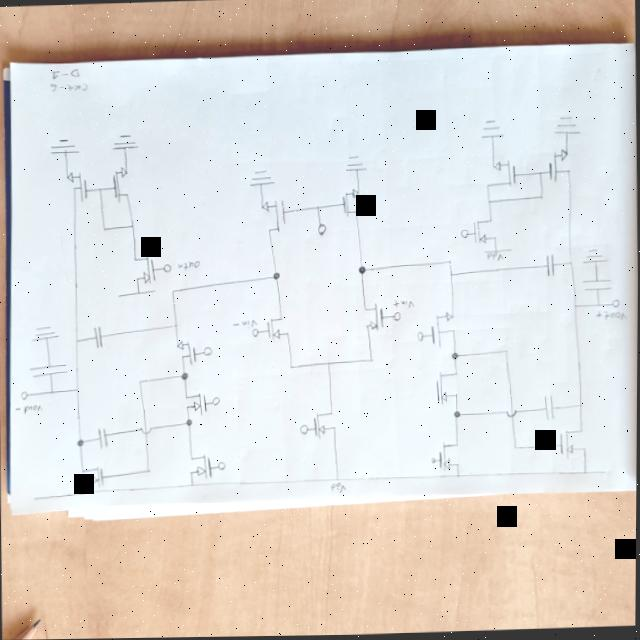capacitor: (28, 359, 69, 381), (580, 276, 613, 296), (542, 393, 557, 423), (96, 426, 109, 450), (543, 254, 555, 279), (92, 324, 104, 349)
crossover: (139, 424, 153, 437), (505, 408, 519, 421)
ground: (47, 136, 81, 156), (552, 115, 582, 137), (110, 131, 139, 152), (247, 167, 276, 188), (478, 119, 506, 140), (30, 324, 60, 341), (581, 248, 609, 266), (342, 155, 369, 173)
junction: (271, 271, 281, 281), (356, 265, 366, 275), (453, 410, 462, 420), (76, 437, 84, 448), (450, 352, 459, 361), (180, 372, 189, 381), (185, 418, 194, 427), (73, 336, 82, 344), (566, 260, 575, 268), (512, 444, 520, 452), (576, 402, 584, 410), (47, 387, 55, 395), (595, 300, 601, 310), (96, 184, 102, 193), (74, 386, 81, 393), (145, 467, 152, 474), (572, 304, 579, 311), (80, 489, 86, 496), (503, 349, 509, 356), (129, 222, 135, 229), (538, 194, 544, 201), (101, 226, 108, 232), (582, 471, 589, 477), (169, 288, 175, 295), (335, 476, 341, 483), (137, 378, 143, 384), (369, 357, 375, 363), (448, 273, 454, 279), (314, 205, 320, 211), (288, 364, 294, 370), (446, 259, 452, 265), (486, 199, 492, 205), (189, 482, 195, 488), (172, 322, 178, 328), (325, 361, 331, 367), (537, 172, 543, 178), (455, 474, 461, 480)
terminal: (118, 289, 156, 296), (480, 247, 513, 254), (211, 393, 220, 408), (458, 228, 469, 239), (317, 224, 327, 236), (162, 261, 171, 274), (392, 312, 402, 323), (415, 331, 424, 343), (299, 424, 309, 434), (202, 347, 212, 357), (218, 459, 226, 471), (610, 300, 620, 309), (599, 469, 608, 478), (20, 391, 30, 399), (251, 328, 259, 337), (430, 456, 437, 464), (31, 495, 38, 502)
text: (594, 310, 626, 324), (13, 402, 43, 415), (175, 258, 202, 270), (230, 319, 255, 329), (484, 251, 506, 262), (329, 481, 347, 494), (393, 299, 415, 309)
transistor: (483, 157, 520, 193), (555, 427, 592, 462), (427, 309, 458, 349), (256, 197, 288, 235), (429, 368, 460, 405), (107, 165, 136, 204), (543, 149, 574, 185), (62, 167, 91, 204), (311, 408, 340, 442), (436, 440, 465, 474), (179, 386, 210, 417), (130, 252, 158, 286), (171, 338, 201, 369), (469, 216, 499, 247), (357, 300, 386, 332), (336, 185, 363, 219), (77, 463, 109, 491), (188, 452, 216, 480), (265, 314, 292, 341)
